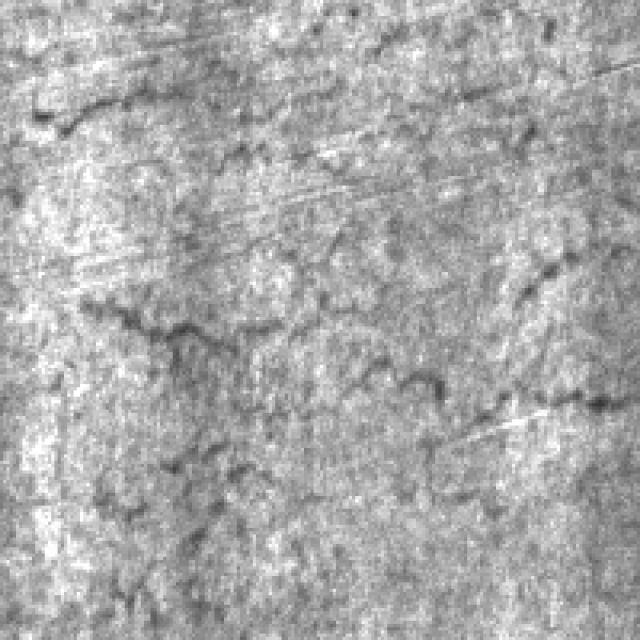crazing: (80, 240, 630, 422), (22, 67, 538, 195), (90, 429, 336, 621)
